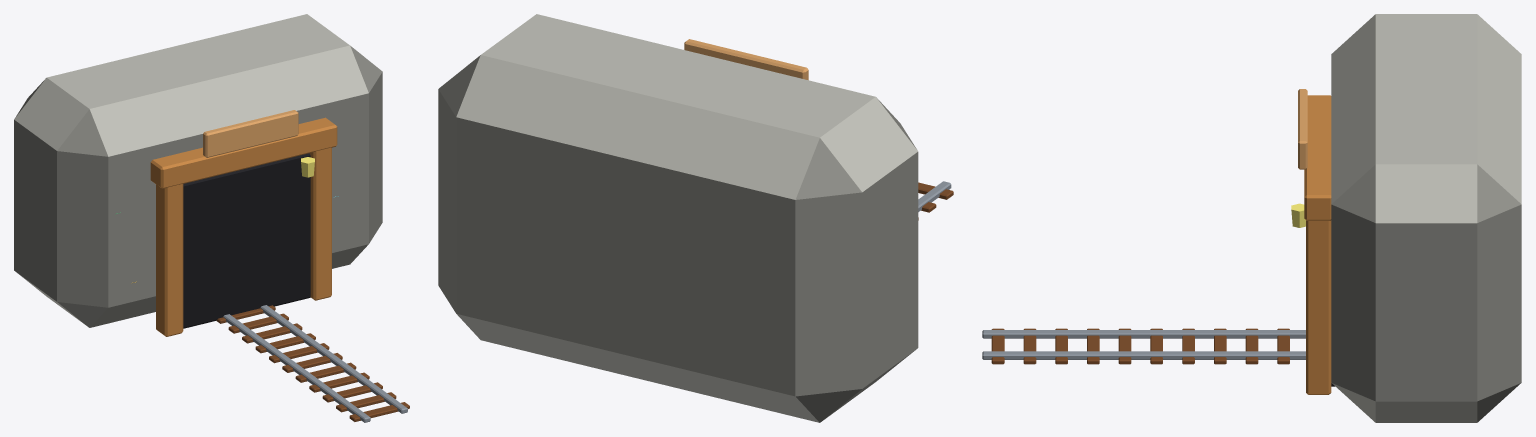
Rendered from MineEntrance.fbx.
3 views of the same model, side by side, from view 1: azimuth 30°, elevation 25°; view 2: azimuth 150°, elevation 25°; view 3: azimuth 270°, elevation 25° (orthographic). The views are drawn at different scales.
Parts seen in each view (by area): view 1: MineEntrance; view 2: MineEntrance; view 3: MineEntrance.
Boxes of the visible parts, x1,y1,x2,y2 form: MineEntrance: (14, 14, 409, 422); MineEntrance: (438, 14, 953, 422); MineEntrance: (982, 14, 1521, 422).
Bounding box in the file's own units: 14 × 9.02 × 17.
1 material, 1 textured.
